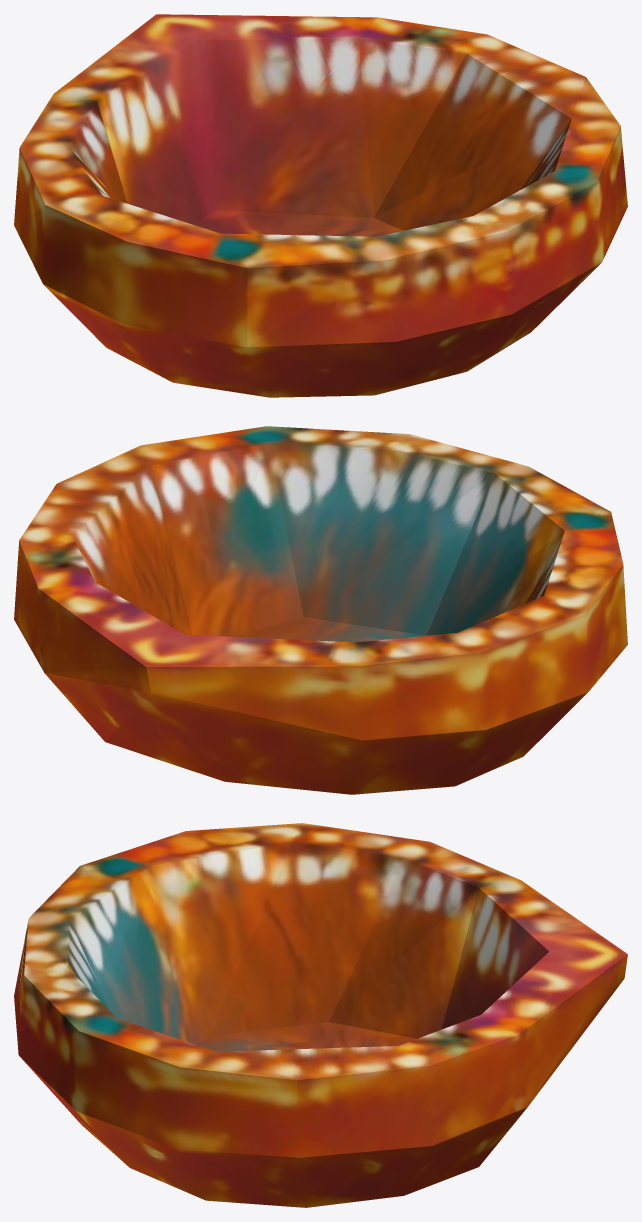
Rendered from diya_color_07.glb.
3 renders of one model, top to bottom at view 1: azimuth 30°, elevation 25°; view 2: azimuth 150°, elevation 25°; view 3: azimuth 270°, elevation 25°, orthographic. The views are drawn at different scales.
Visible parts, largest first — view 1: diya_mesh; view 2: diya_mesh; view 3: diya_mesh.
Part boxes in pixels (x1,y1,x2,y2): diya_mesh: (14, 14, 627, 397); diya_mesh: (14, 426, 627, 794); diya_mesh: (14, 823, 627, 1207).
Size of the model in its own units: 0.2632 by 0.0761 by 0.2637.
Materials: 1 (1 with a texture image).
